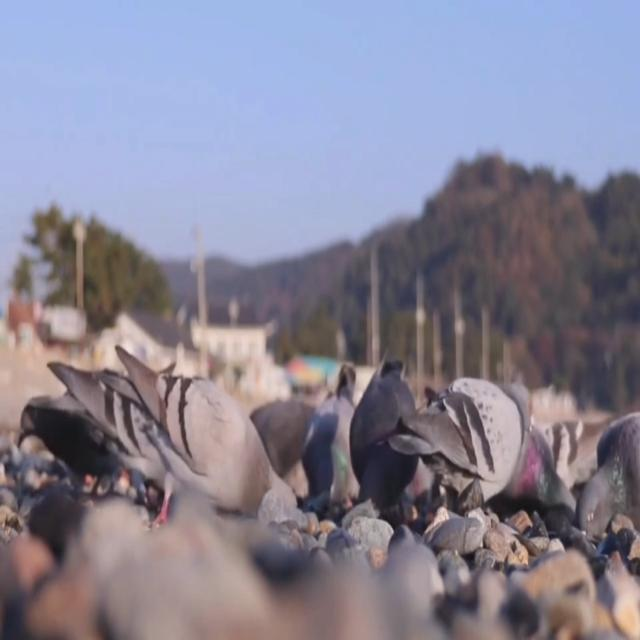bird: (110, 334, 307, 532), (370, 366, 539, 535), (9, 364, 147, 501), (343, 340, 424, 525), (293, 353, 368, 519), (572, 410, 640, 577), (490, 419, 588, 530)
